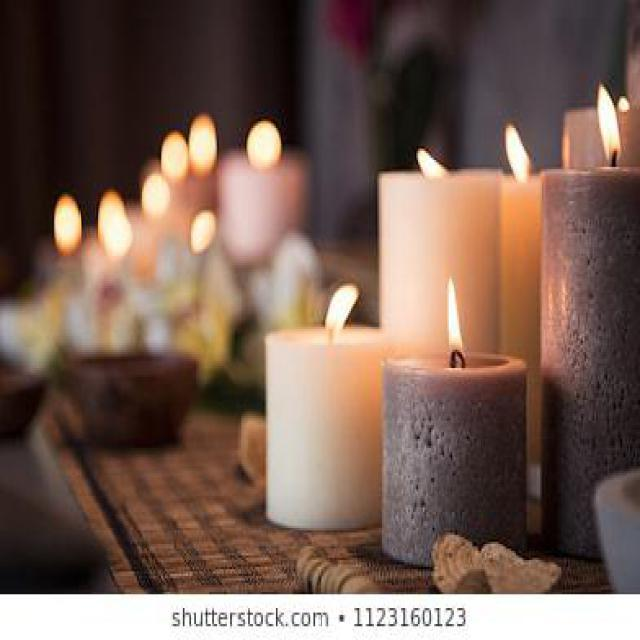Fire: (596, 86, 624, 162), (323, 281, 359, 336), (504, 124, 534, 180), (444, 274, 464, 354)
